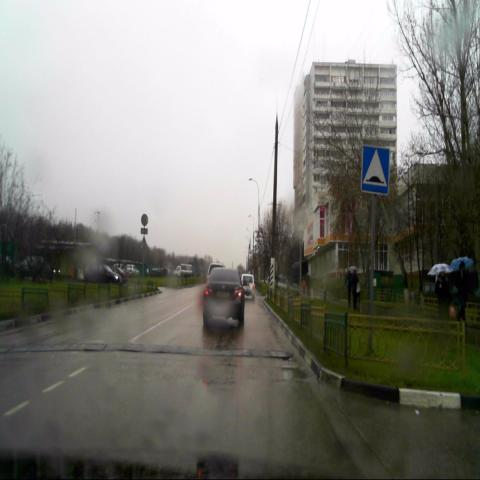3_25: (294, 210, 308, 231)
